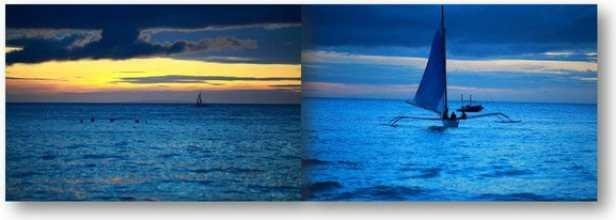fanchuan: (384, 2, 523, 137)
